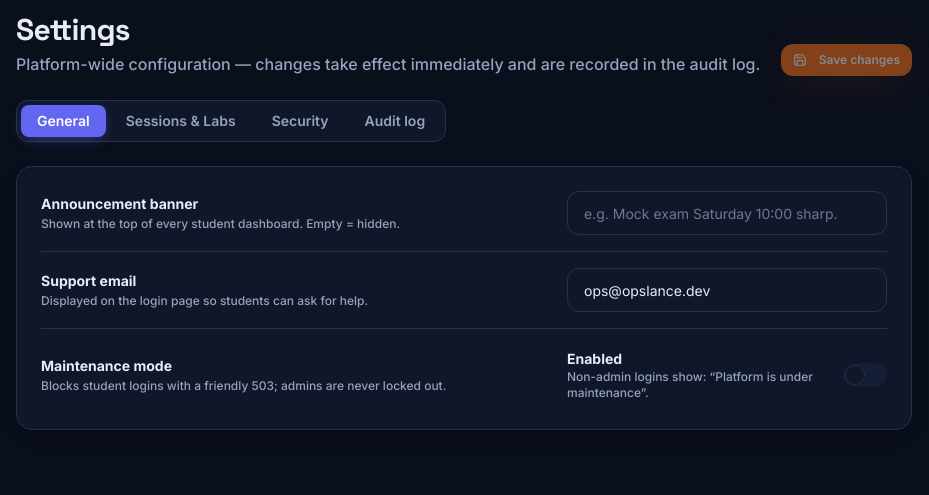
Test: AdminSettings › tracks unsaved changes and only submits dirty keys on save
Later steps or results of the test are not shown.
Type "Mock exam Saturday" into the field named "Announcement banner text" at coordinates (727, 213), box [567,191,887,235]
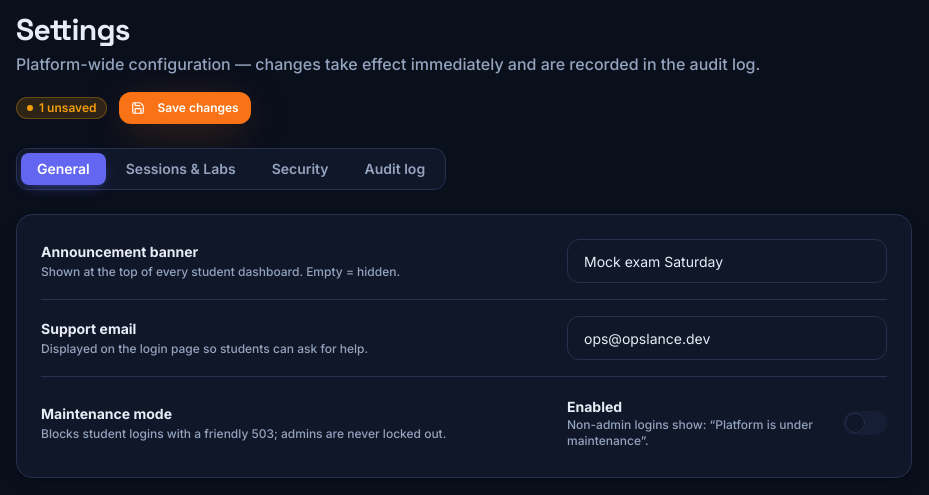
Expected: the text "1 unsaved" is shown, [16,97,108,119]
